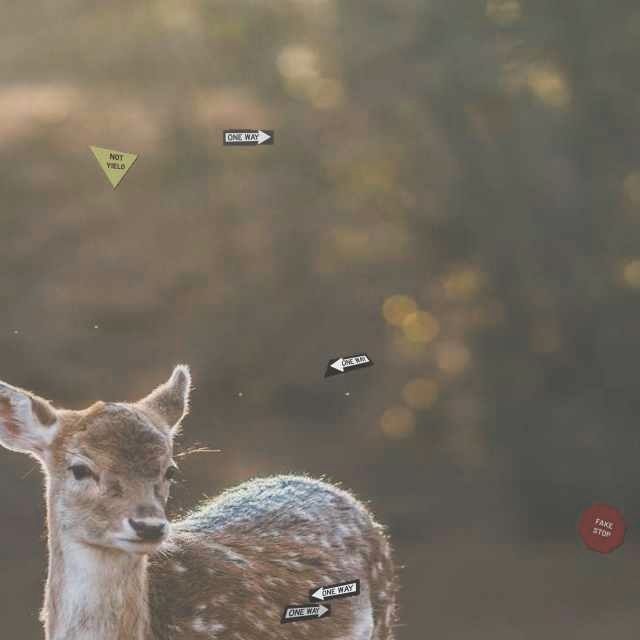FAKE_STOP: (577, 502, 627, 554)
NOT_YIELD: (87, 144, 139, 189)
ONE_WAY_ left: (323, 353, 375, 378), (308, 578, 360, 603)
ONE_WAY_ right: (279, 603, 331, 624), (222, 129, 274, 146)
